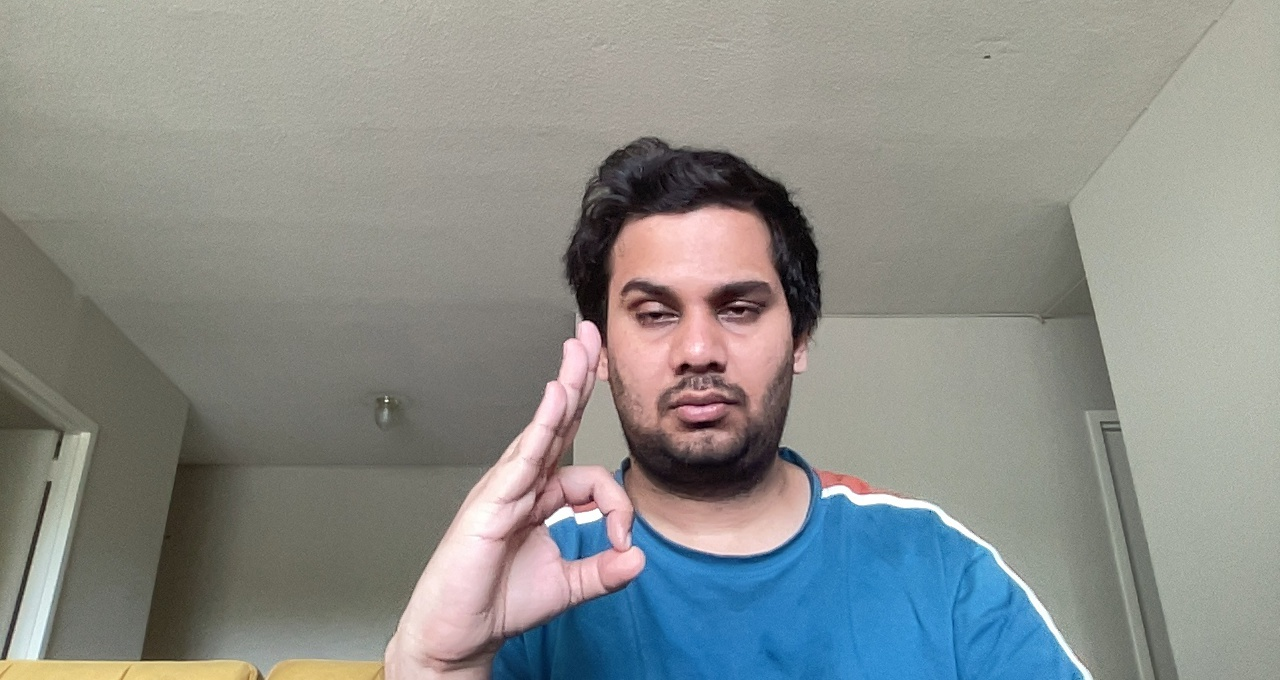ok: (426, 320, 659, 656)
